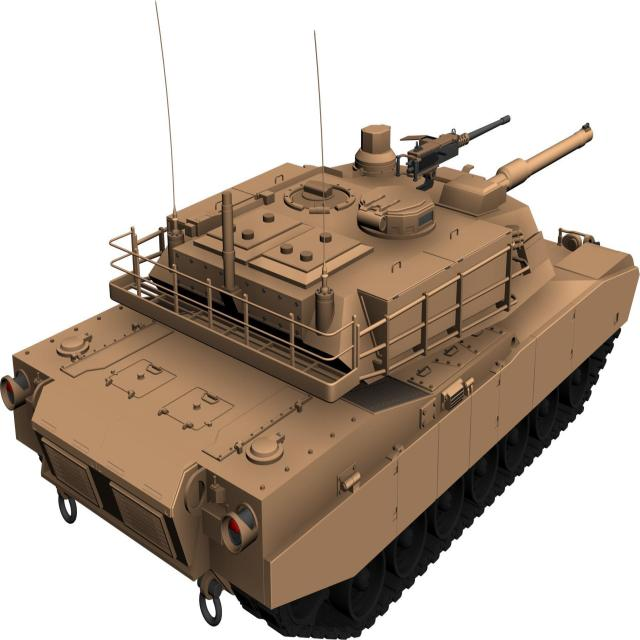Tanks: (22, 105, 566, 635)
